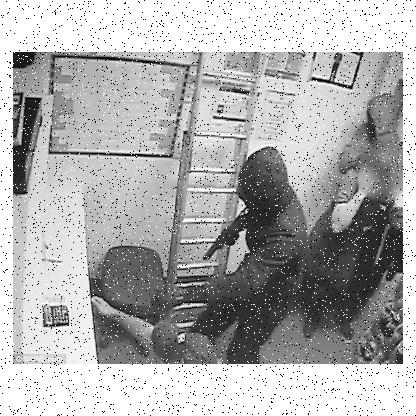gun: (202, 229, 238, 259)
